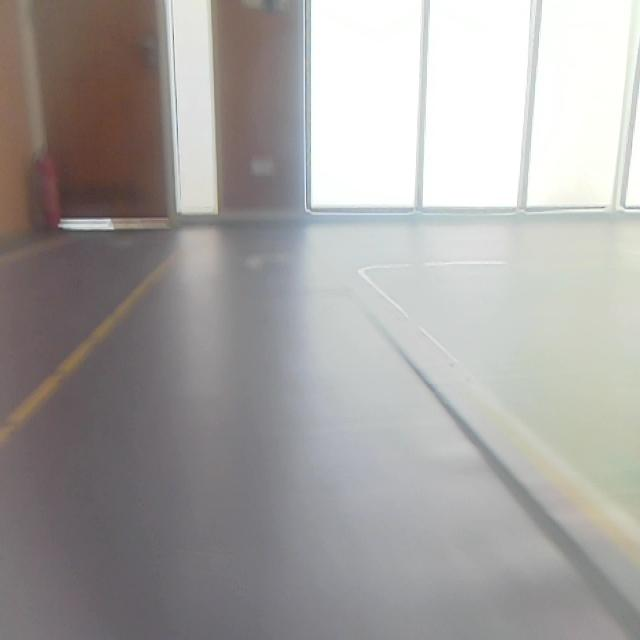left_lane: (1, 244, 178, 452)
right_lane: (355, 274, 639, 568)
